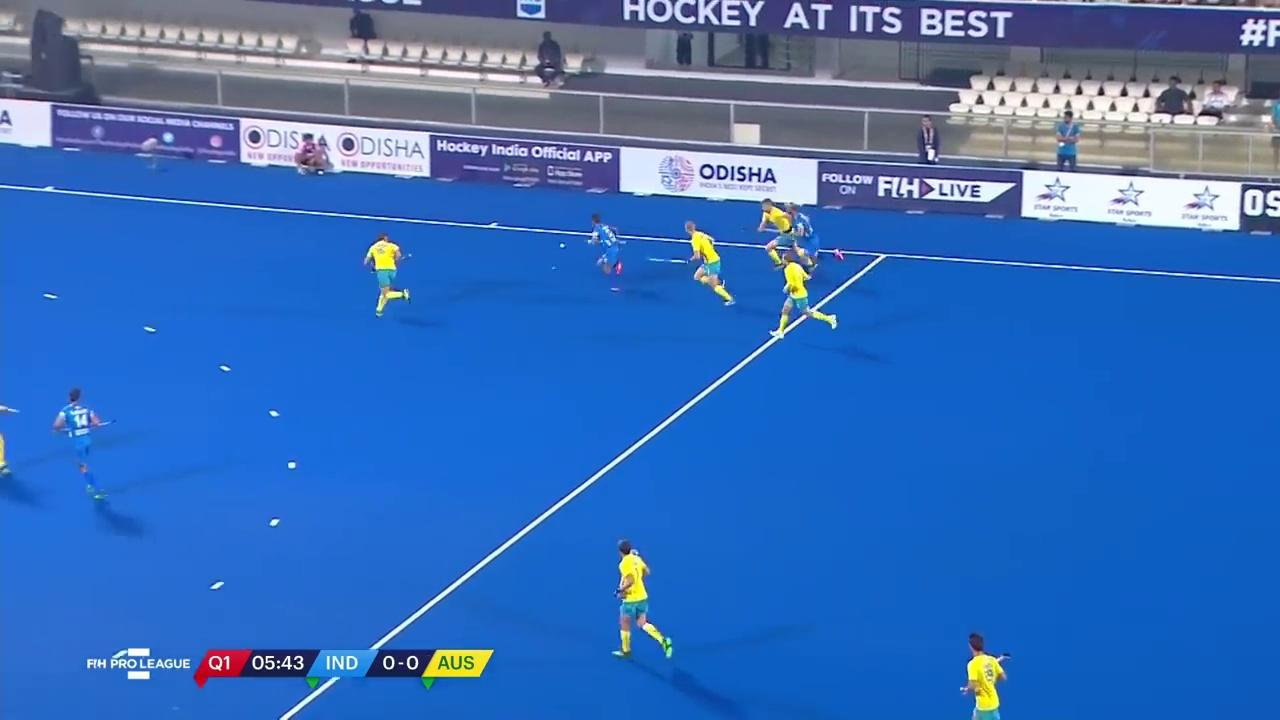ball: (557, 240, 568, 250)
